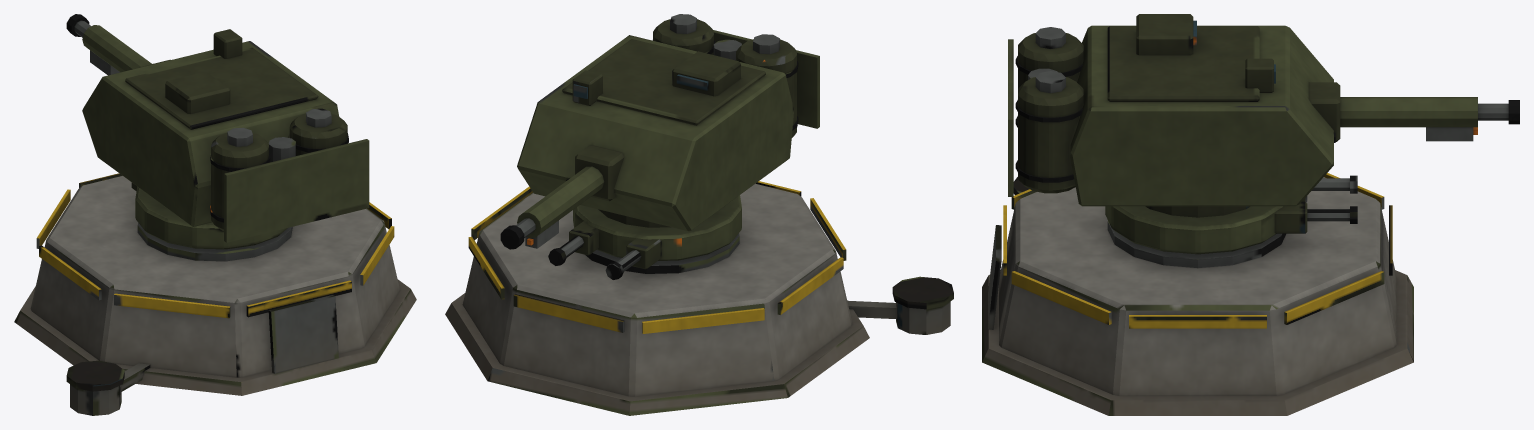
Rendered from ftur.glb.
The picture shows the model from 3 angles, left to right: view 1: azimuth 30°, elevation 25°; view 2: azimuth 150°, elevation 25°; view 3: azimuth 270°, elevation 25°; orthographic projection. The views are drawn at different scales.
Visible parts, largest first — view 1: hull, turret, turret2, barrel; view 2: hull, turret, turret2, barrel; view 3: hull, turret, turret2, barrel.
Part boxes in pixels (<box>): hull: <box>14,173,416,415</box>; turret: <box>82,29,369,242</box>; turret2: <box>131,182,287,249</box>; barrel: <box>66,14,170,75</box>; hull: <box>445,181,953,415</box>; turret: <box>517,14,819,231</box>; turret2: <box>548,195,741,279</box>; barrel: <box>500,145,624,249</box>; hull: <box>982,173,1413,415</box>; turret: <box>1008,14,1333,206</box>; turret2: <box>1105,175,1357,254</box>; barrel: <box>1308,82,1519,142</box>.
Size of the model in its own units: 5.22 by 3.31 by 5.66.
1 material, 1 textured.
